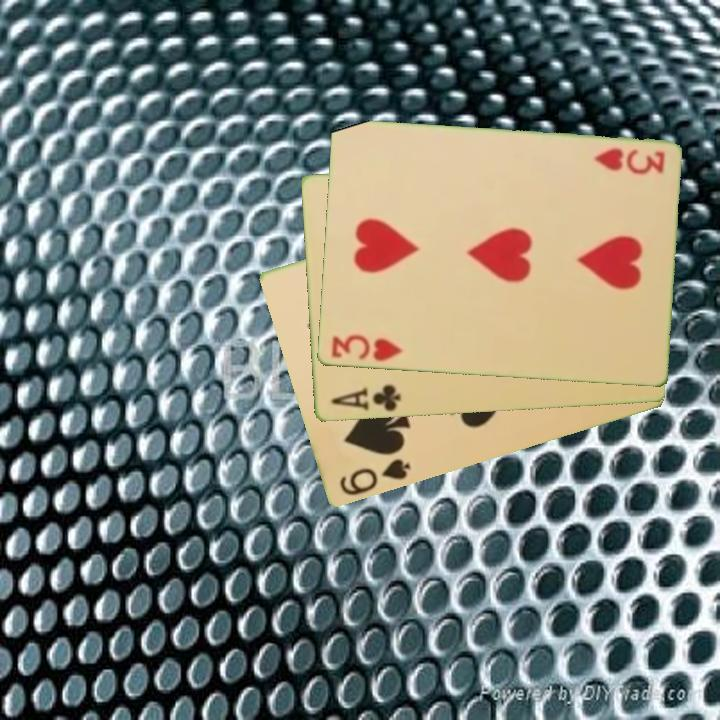3h: (327, 331, 404, 365), (590, 144, 667, 177)
6s: (336, 455, 414, 499)
Ac: (327, 381, 403, 415)
